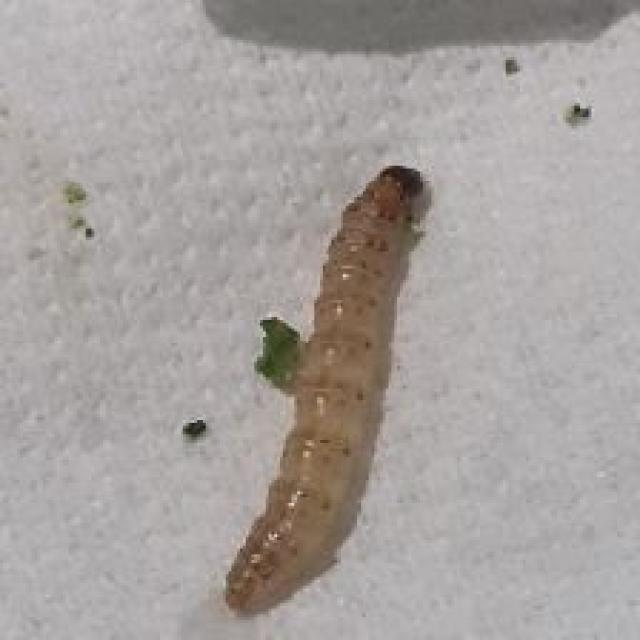white mucus: (201, 135, 494, 624)
